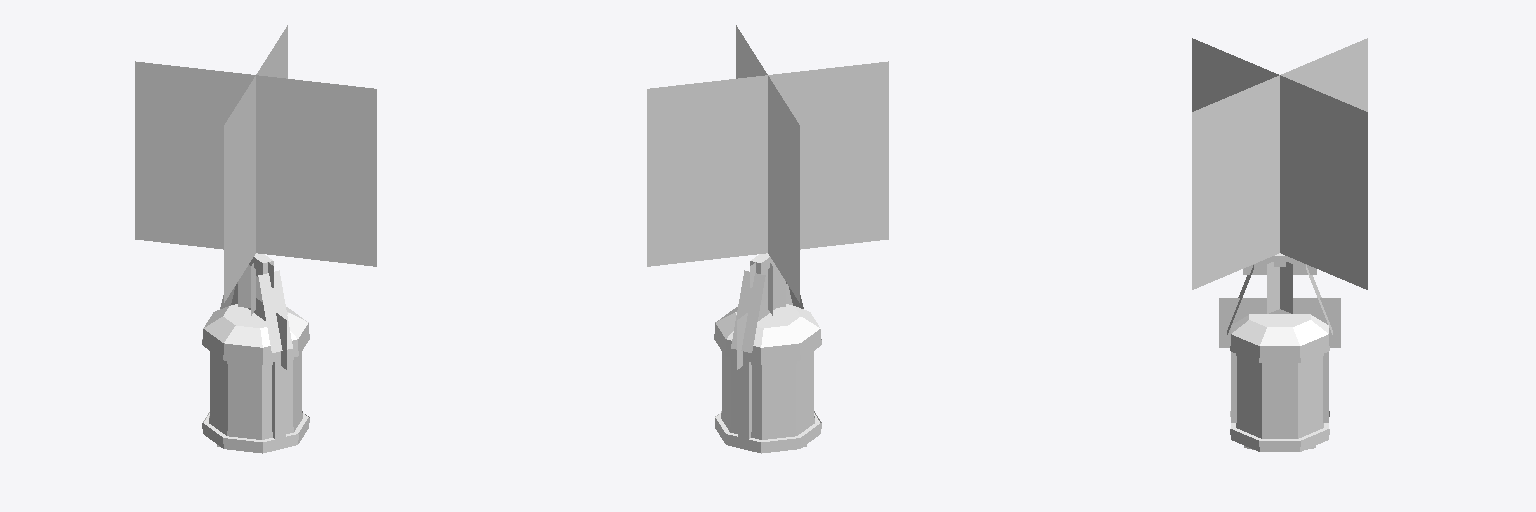
The model's file is bronze_lantern_hanging.obj.
3 renders of one model, left to right at view 1: azimuth 30°, elevation 25°; view 2: azimuth 150°, elevation 25°; view 3: azimuth 270°, elevation 25°, orthographic.
Visible parts, largest first — view 1: cube.000, cube, cylinder, cylinder.004, cube.006, cube.005, cylinder.005, cylinder.000, cube.002, cube.009, cylinder.003; view 2: cube, cube.000, cylinder, cylinder.004, cube.007, cube.005, cylinder.005, cylinder.000, cube.002, cube.008, cylinder.003; view 3: cube, cube.000, cylinder, cylinder.004, cube.002, cube.005, cylinder.005, cube.008, cube.009, cylinder.000, cylinder.003.
Boxes of the visible parts, x1,y1,x2,y2 form: cube.000: [135, 61, 376, 266]; cube: [224, 25, 287, 302]; cylinder: [210, 352, 301, 434]; cylinder.004: [203, 304, 308, 358]; cube.006: [258, 270, 292, 352]; cube.005: [272, 361, 285, 438]; cylinder.005: [203, 413, 308, 453]; cylinder.000: [202, 412, 309, 447]; cube.002: [231, 284, 286, 369]; cube.009: [238, 265, 262, 307]; cylinder.003: [202, 334, 309, 364]; cube: [647, 61, 888, 266]; cube.000: [736, 25, 799, 302]; cylinder: [722, 352, 813, 434]; cylinder.004: [715, 304, 820, 358]; cube.007: [731, 270, 765, 352]; cube.005: [738, 361, 751, 438]; cylinder.005: [715, 413, 820, 453]; cylinder.000: [715, 411, 821, 447]; cube.002: [737, 284, 792, 369]; cube.008: [761, 265, 785, 307]; cylinder.003: [714, 334, 821, 364]; cube: [1192, 38, 1367, 289]; cube.000: [1192, 38, 1367, 289]; cylinder: [1237, 356, 1322, 432]; cylinder.004: [1231, 314, 1328, 357]; cube.002: [1219, 298, 1340, 347]; cube.005: [1231, 352, 1328, 422]; cylinder.005: [1231, 423, 1328, 451]; cube.008: [1280, 262, 1292, 313]; cube.009: [1267, 262, 1279, 313]; cylinder.000: [1230, 411, 1329, 446]; cylinder.003: [1230, 346, 1329, 362].
Size of the model in its own units: 0.9 by 2.03 by 0.9.